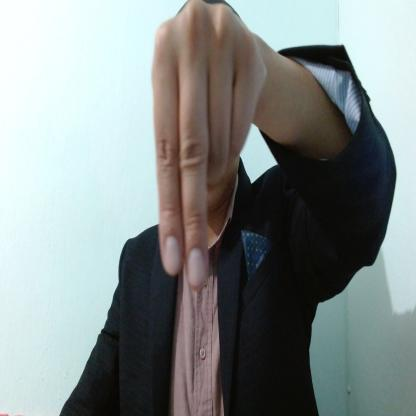N: (152, 0, 266, 288)
